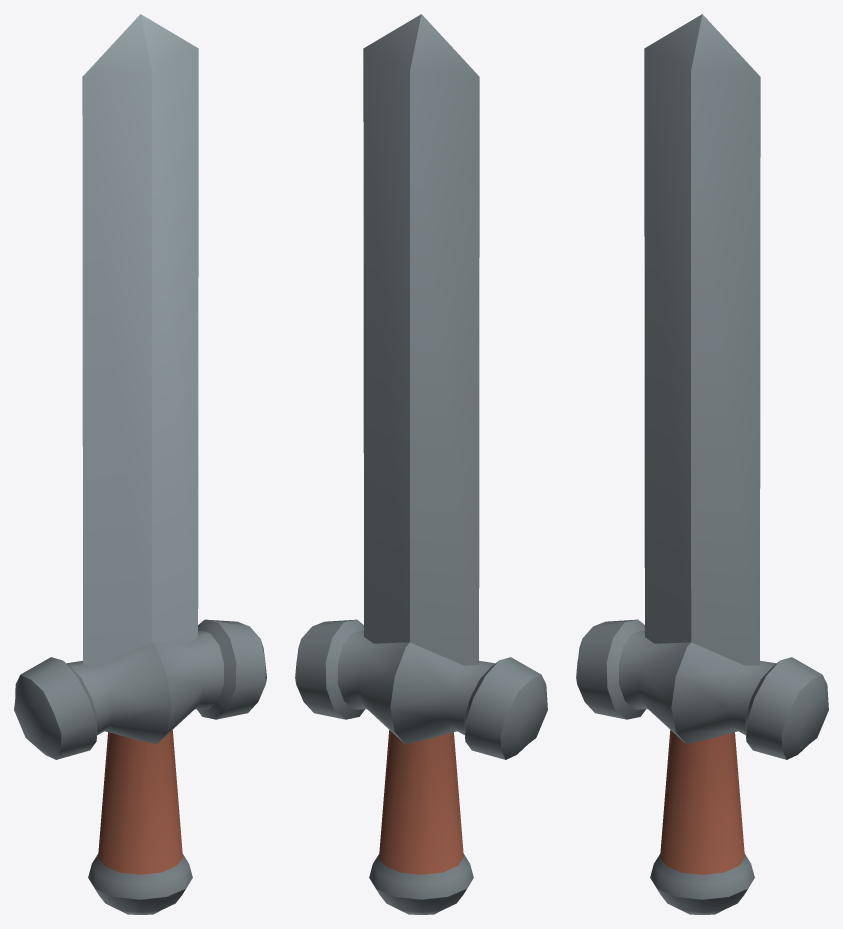
The model's file is sword.gltf.
The picture shows the model from 3 angles, left to right: view 1: azimuth 30°, elevation 25°; view 2: azimuth 150°, elevation 25°; view 3: azimuth 330°, elevation 25°; orthographic projection.
Parts seen in each view (by area): view 1: sword_uncommon; view 2: sword_uncommon; view 3: sword_uncommon.
Part boxes in pixels (x1,y1,x2,y2): sword_uncommon: (14, 14, 266, 914); sword_uncommon: (295, 14, 547, 914); sword_uncommon: (576, 14, 828, 914).
Bounding box in the file's own units: 0.4102 × 1.51 × 0.1914.
